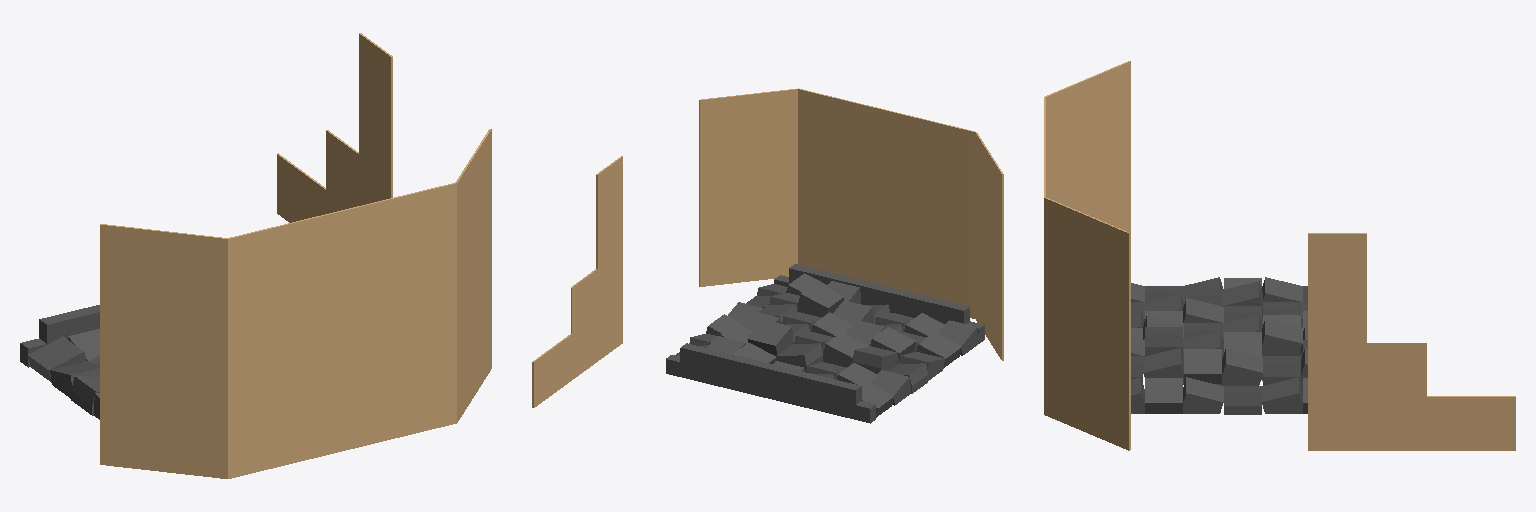
--- What the picture shows (computed from the rendered views, not written in the file) ---
3 views of the same robot in one strip: view 1: azimuth 30°, elevation 25°; view 2: azimuth 150°, elevation 25°; view 3: azimuth 270°, elevation 25° (orthographic).
Robot: drc_terrain — 69 links, 68 joints (68 fixed); root link base_link; default pose: all joints at 0.
Visible links, largest first — view 1: wall, zShapeIndexedFaceSet.62, zShapeIndexedFaceSet.64, zShapeIndexedFaceSet.61, zShapeIndexedFaceSet.29, zShapeIndexedFaceSet.40, zShapeIndexedFaceSet.16; view 2: wall, zShapeIndexedFaceSet.62, zShapeIndexedFaceSet.64, zShapeIndexedFaceSet.66, zShapeIndexedFaceSet.63, zShapeIndexedFaceSet.22, zShapeIndexedFaceSet.50, zShapeIndexedFaceSet.53, zShapeIndexedFaceSet.07, zShapeIndexedFaceSet.34, brickA5, zShapeIndexedFaceSet.29 (+10 smaller); view 3: wall, zShapeIndexedFaceSet.62, zShapeIndexedFaceSet.38, zShapeIndexedFaceSet.22, zShapeIndexedFaceSet.23, zShapeIndexedFaceSet.14, zShapeIndexedFaceSet.28, zShapeIndexedFaceSet.36, zShapeIndexedFaceSet.59, zShapeIndexedFaceSet.01, zShapeIndexedFaceSet.52, zShapeIndexedFaceSet.50 (+7 smaller).
Link boxes in pixels (box(x1,y1,x2,y2)): wall: box(100, 129, 491, 478); zShapeIndexedFaceSet.62: box(277, 33, 392, 222); zShapeIndexedFaceSet.64: box(39, 305, 99, 343); zShapeIndexedFaceSet.61: box(28, 336, 86, 382); zShapeIndexedFaceSet.29: box(50, 361, 99, 398); zShapeIndexedFaceSet.40: box(71, 376, 99, 415); zShapeIndexedFaceSet.16: box(68, 329, 99, 360); wall: box(699, 88, 1003, 360); zShapeIndexedFaceSet.62: box(532, 156, 622, 407); zShapeIndexedFaceSet.64: box(680, 343, 861, 404); zShapeIndexedFaceSet.66: box(666, 355, 875, 423); zShapeIndexedFaceSet.63: box(789, 264, 969, 323); zShapeIndexedFaceSet.22: box(748, 319, 792, 354); zShapeIndexedFaceSet.50: box(798, 282, 844, 316); zShapeIndexedFaceSet.53: box(823, 332, 867, 366); zShapeIndexedFaceSet.07: box(853, 346, 897, 373); zShapeIndexedFaceSet.34: box(776, 343, 822, 372); brickA5: box(916, 332, 961, 367); zShapeIndexedFaceSet.29: box(870, 370, 910, 405); wall: box(1044, 61, 1130, 450); zShapeIndexedFaceSet.62: box(1308, 233, 1515, 450); zShapeIndexedFaceSet.38: box(1145, 378, 1182, 413); zShapeIndexedFaceSet.22: box(1262, 319, 1302, 355); zShapeIndexedFaceSet.23: box(1222, 348, 1262, 384); zShapeIndexedFaceSet.14: box(1262, 377, 1302, 413); zShapeIndexedFaceSet.28: box(1183, 377, 1223, 413); zShapeIndexedFaceSet.36: box(1184, 349, 1221, 383); zShapeIndexedFaceSet.59: box(1224, 386, 1261, 414); zShapeIndexedFaceSet.01: box(1143, 348, 1183, 384); zShapeIndexedFaceSet.52: box(1263, 356, 1300, 385); zShapeIndexedFaceSet.50: box(1145, 327, 1182, 355).
Bounding box of the posed robot: 4.2 × 4.83 × 2.46 m (x, y, z).
Meshes: 68 distinct files referenced, 67 mesh visuals loaded (67 binary STL); not drawn: 1 (reference not matched to a file when rendering).

robot.urdf — drc_terrain:
<?xml version="1.0" ?>
<robot name="drc_terrain">
  <link name="base_link" />

    <link name="ground">
    <visual>
      <geometry>
        <mesh filename="package://mc_env_description/meshes/drc_terrain/ground.stl" />
      </geometry>
      <material name="default">
        <color rgba="1.0 1.0 1.0 1" />
      </material>
    </visual>

  </link>
  <joint name="ground" type="fixed">
    <parent link="base_link" />
    <child link="ground" />
    <origin rpy="0.0 0.0 0.0" xyz="2.0 0.0 0.0" />
  </joint>

  <link name="wall">
    <visual>
      <geometry>
        <mesh filename="package://mc_env_description/meshes/drc_terrain/wall.stl" />
      </geometry>
      <material name="Shape.067">
        <color rgba="0.8705882430076599 0.7215686440467834 0.529411792755127 1" />
      </material>
    </visual>

  </link>
  <joint name="wall" type="fixed">
    <parent link="base_link" />
    <child link="wall" />
    <origin rpy="0.0 -0.0 0.0" xyz="0.0 0.27956652641296387 0.0" />
  </joint>

  <link name="zShapeIndexedFaceSet.66">
    <visual>
      <geometry>
        <mesh filename="package://mc_env_description/meshes/drc_terrain/zShapeIndexedFaceSet.66.stl" />
      </geometry>
      <material name="Shape.066">
        <color rgba="0.4000000059604645 0.4000000059604645 0.4000000059604645 1" />
      </material>
    </visual>

  </link>
  <joint name="zShapeIndexedFaceSet.66" type="fixed">
    <parent link="base_link" />
    <child link="zShapeIndexedFaceSet.66" />
    <origin rpy="0.0 -0.0 0.0" xyz="0.0 0.0 0.0" />
  </joint>

  <link name="zShapeIndexedFaceSet.65">
    <visual>
      <geometry>
        <mesh filename="package://mc_env_description/meshes/drc_terrain/zShapeIndexedFaceSet.65.stl" />
      </geometry>
      <material name="Shape.065">
        <color rgba="0.4000000059604645 0.4000000059604645 0.4000000059604645 1" />
      </material>
    </visual>

  </link>
  <joint name="zShapeIndexedFaceSet.65" type="fixed">
    <parent link="base_link" />
    <child link="zShapeIndexedFaceSet.65" />
    <origin rpy="0.0 -0.0 0.0" xyz="0.0 0.0 0.0" />
  </joint>

  <link name="zShapeIndexedFaceSet.64">
    <visual>
      <geometry>
        <mesh filename="package://mc_env_description/meshes/drc_terrain/zShapeIndexedFaceSet.64.stl" />
      </geometry>
      <material name="Shape.064">
        <color rgba="0.4000000059604645 0.4000000059604645 0.4000000059604645 1" />
      </material>
    </visual>

  </link>
  <joint name="zShapeIndexedFaceSet.64" type="fixed">
    <parent link="base_link" />
    <child link="zShapeIndexedFaceSet.64" />
    <origin rpy="0.0 -0.0 0.0" xyz="0.0 0.0 0.0" />
  </joint>

  <link name="zShapeIndexedFaceSet.63">
    <visual>
      <geometry>
        <mesh filename="package://mc_env_description/meshes/drc_terrain/zShapeIndexedFaceSet.63.stl" />
      </geometry>
      <material name="Shape.063">
        <color rgba="0.4000000059604645 0.4000000059604645 0.4000000059604645 1" />
      </material>
    </visual>

  </link>
  <joint name="zShapeIndexedFaceSet.63" type="fixed">
    <parent link="base_link" />
    <child link="zShapeIndexedFaceSet.63" />
    <origin rpy="0.0 -0.0 0.0" xyz="0.0 0.0 0.0" />
  </joint>

  <link name="zShapeIndexedFaceSet.62">
    <visual>
      <geometry>
        <mesh filename="package://mc_env_description/meshes/drc_terrain/zShapeIndexedFaceSet.62.stl" />
      </geometry>
      <material name="Shape.062">
        <color rgba="0.8705882430076599 0.7215686440467834 0.529411792755127 1" />
      </material>
    </visual>

  </link>
  <joint name="zShapeIndexedFaceSet.62" type="fixed">
    <parent link="base_link" />
    <child link="zShapeIndexedFaceSet.62" />
    <origin rpy="0.0 -0.0 0.0" xyz="0.0 0.0 0.0" />
  </joint>

  <link name="zShapeIndexedFaceSet.61">
    <visual>
      <geometry>
        <mesh filename="package://mc_env_description/meshes/drc_terrain/zShapeIndexedFaceSet.61.stl" />
      </geometry>
      <material name="Shape.061">
        <color rgba="0.4000000059604645 0.4000000059604645 0.4000000059604645 1" />
      </material>
    </visual>

  </link>
  <joint name="zShapeIndexedFaceSet.61" type="fixed">
    <parent link="base_link" />
    <child link="zShapeIndexedFaceSet.61" />
    <origin rpy="0.0 -0.0 0.0" xyz="0.0 0.0 0.0" />
  </joint>

  <link name="zShapeIndexedFaceSet.60">
    <visual>
      <geometry>
        <mesh filename="package://mc_env_description/meshes/drc_terrain/zShapeIndexedFaceSet.60.stl" />
      </geometry>
      <material name="Shape.060">
        <color rgba="0.4000000059604645 0.4000000059604645 0.4000000059604645 1" />
      </material>
    </visual>

  </link>
  <joint name="zShapeIndexedFaceSet.60" type="fixed">
    <parent link="base_link" />
    <child link="zShapeIndexedFaceSet.60" />
    <origin rpy="0.0 -0.0 0.0" xyz="0.0 0.0 0.0" />
  </joint>

  <link name="zShapeIndexedFaceSet.59">
    <visual>
      <geometry>
        <mesh filename="package://mc_env_description/meshes/drc_terrain/zShapeIndexedFaceSet.59.stl" />
      </geometry>
      <material name="Shape.059">
        <color rgba="0.4000000059604645 0.4000000059604645 0.4000000059604645 1" />
      </material>
    </visual>

  </link>
  <joint name="zShapeIndexedFaceSet.59" type="fixed">
    <parent link="base_link" />
    <child link="zShapeIndexedFaceSet.59" />
    <origin rpy="0.0 -0.0 0.0" xyz="0.0 0.0 0.0" />
  </joint>

  <link name="brickA5">
    <visual>
      <geometry>
        <mesh filename="package://mc_env_description/meshes/drc_terrain/brickA5.stl" />
      </geometry>
      <material name="Shape.058">
        <color rgba="0.4000000059604645 0.4000000059604645 0.4000000059604645 1" />
      </material>
    </visual>

  </link>
  <joint name="brickA5" type="fixed">
    <parent link="base_link" />
    <child link="brickA5" />
    <origin rpy="0.0 -0.0 0.0" xyz="0.0 0.0 0.0" />
  </joint>

  <link name="brickB6">
    <visual>
      <geometry>
        <mesh filename="package://mc_env_description/meshes/drc_terrain/brickB6.stl" />
      </geometry>
      <material name="Shape.057">
        <color rgba="0.4000000059604645 0.4000000059604645 0.4000000059604645 1" />
      </material>
    </visual>

  </link>
  <joint name="brickB6" type="fixed">
    <parent link="base_link" />
    <child link="brickB6" />
    <origin rpy="0.0 -0.0 0.0" xyz="0.0 0.0 0.0" />
  </joint>

  <link name="zShapeIndexedFaceSet.56">
    <visual>
      <geometry>
        <mesh filename="package://mc_env_description/meshes/drc_terrain/zShapeIndexedFaceSet.56.stl" />
      </geometry>
      <material name="Shape.056">
        <color rgba="0.4000000059604645 0.4000000059604645 0.4000000059604645 1" />
      </material>
    </visual>

  </link>
  <joint name="zShapeIndexedFaceSet.56" type="fixed">
    <parent link="base_link" />
    <child link="zShapeIndexedFaceSet.56" />
    <origin rpy="0.0 -0.0 0.0" xyz="0.0 0.0 0.0" />
  </joint>

  <link name="zShapeIndexedFaceSet.55">
    <visual>
      <geometry>
        <mesh filename="package://mc_env_description/meshes/drc_terrain/zShapeIndexedFaceSet.55.stl" />
      </geometry>
      <material name="Shape.055">
        <color rgba="0.4000000059604645 0.4000000059604645 0.4000000059604645 1" />
      </material>
    </visual>

  </link>
  <joint name="zShapeIndexedFaceSet.55" type="fixed">
    <parent link="base_link" />
    <child link="zShapeIndexedFaceSet.55" />
    <origin rpy="0.0 -0.0 0.0" xyz="0.0 0.0 0.0" />
  </joint>

  <link name="zShapeIndexedFaceSet.54">
    <visual>
      <geometry>
        <mesh filename="package://mc_env_description/meshes/drc_terrain/zShapeIndexedFaceSet.54.stl" />
      </geometry>
      <material name="Shape.054">
        <color rgba="0.4000000059604645 0.4000000059604645 0.4000000059604645 1" />
      </material>
    </visual>

  </link>
  <joint name="zShapeIndexedFaceSet.54" type="fixed">
    <parent link="base_link" />
    <child link="zShapeIndexedFaceSet.54" />
    <origin rpy="0.0 -0.0 0.0" xyz="0.0 0.0 0.0" />
  </joint>

  <link name="zShapeIndexedFaceSet.53">
    <visual>
      <geometry>
        <mesh filename="package://mc_env_description/meshes/drc_terrain/zShapeIndexedFaceSet.53.stl" />
      </geometry>
      <material name="Shape.053">
        <color rgba="0.4000000059604645 0.4000000059604645 0.4000000059604645 1" />
      </material>
    </visual>

  </link>
  <joint name="zShapeIndexedFaceSet.53" type="fixed">
    <parent link="base_link" />
    <child link="zShapeIndexedFaceSet.53" />
    <origin rpy="0.0 -0.0 0.0" xyz="0.0 0.0 0.0" />
  </joint>

  <link name="zShapeIndexedFaceSet.52">
    <visual>
      <geometry>
        <mesh filename="package://mc_env_description/meshes/drc_terrain/zShapeIndexedFaceSet.52.stl" />
      </geometry>
      <material name="Shape.052">
        <color rgba="0.4000000059604645 0.4000000059604645 0.4000000059604645 1" />
      </material>
    </visual>

  </link>
  <joint name="zShapeIndexedFaceSet.52" type="fixed">
    <parent link="base_link" />
    <child link="zShapeIndexedFaceSet.52" />
    <origin rpy="0.0 -0.0 0.0" xyz="0.0 0.0 0.0" />
  </joint>

  <link name="zShapeIndexedFaceSet.51">
    <visual>
      <geometry>
        <mesh filename="package://mc_env_description/meshes/drc_terrain/zShapeIndexedFaceSet.51.stl" />
      </geometry>
      <material name="Shape.051">
        <color rgba="0.4000000059604645 0.4000000059604645 0.4000000059604645 1" />
      </material>
    </visual>

  </link>
  <joint name="zShapeIndexedFaceSet.51" type="fixed">
    <parent link="base_link" />
    <child link="zShapeIndexedFaceSet.51" />
    <origin rpy="0.0 -0.0 0.0" xyz="0.0 0.0 0.0" />
  </joint>

  <link name="zShapeIndexedFaceSet.50">
    <visual>
      <geometry>
        <mesh filename="package://mc_env_description/meshes/drc_terrain/zShapeIndexedFaceSet.50.stl" />
      </geometry>
      <material name="Shape.050">
        <color rgba="0.4000000059604645 0.4000000059604645 0.4000000059604645 1" />
      </material>
    </visual>

  </link>
  <joint name="zShapeIndexedFaceSet.50" type="fixed">
    <parent link="base_link" />
    <child link="zShapeIndexedFaceSet.50" />
    <origin rpy="0.0 -0.0 0.0" xyz="0.0 0.0 0.0" />
  </joint>

  <link name="zShapeIndexedFaceSet.49">
    <visual>
      <geometry>
        <mesh filename="package://mc_env_description/meshes/drc_terrain/zShapeIndexedFaceSet.49.stl" />
      </geometry>
      <material name="Shape.049">
        <color rgba="0.4000000059604645 0.4000000059604645 0.4000000059604645 1" />
      </material>
    </visual>

  </link>
  <joint name="zShapeIndexedFaceSet.49" type="fixed">
    <parent link="base_link" />
    <child link="zShapeIndexedFaceSet.49" />
    <origin rpy="0.0 -0.0 0.0" xyz="0.0 0.0 0.0" />
  </joint>

  <link name="zShapeIndexedFaceSet.48">
    <visual>
      <geometry>
        <mesh filename="package://mc_env_description/meshes/drc_terrain/zShapeIndexedFaceSet.48.stl" />
      </geometry>
      <material name="Shape.048">
        <color rgba="0.4000000059604645 0.4000000059604645 0.4000000059604645 1" />
      </material>
    </visual>

  </link>
  <joint name="zShapeIndexedFaceSet.48" type="fixed">
    <parent link="base_link" />
    <child link="zShapeIndexedFaceSet.48" />
    <origin rpy="0.0 -0.0 0.0" xyz="0.0 0.0 0.0" />
  </joint>

  <link name="zShapeIndexedFaceSet.47">
    <visual>
      <geometry>
        <mesh filename="package://mc_env_description/meshes/drc_terrain/zShapeIndexedFaceSet.47.stl" />
      </geometry>
      <material name="Shape.047">
        <color rgba="0.4000000059604645 0.4000000059604645 0.4000000059604645 1" />
      </material>
    </visual>

  </link>
  <joint name="zShapeIndexedFaceSet.47" type="fixed">
    <parent link="base_link" />
    <child link="zShapeIndexedFaceSet.47" />
    <origin rpy="0.0 -0.0 0.0" xyz="0.0 0.0 0.0" />
  </joint>

  <link name="zShapeIndexedFaceSet.46">
    <visual>
      <geometry>
        <mesh filename="package://mc_env_description/meshes/drc_terrain/zShapeIndexedFaceSet.46.stl" />
      </geometry>
      <material name="Shape.046">
        <color rgba="0.4000000059604645 0.4000000059604645 0.4000000059604645 1" />
      </material>
    </visual>

  </link>
  <joint name="zShapeIndexedFaceSet.46" type="fixed">
    <parent link="base_link" />
    <child link="zShapeIndexedFaceSet.46" />
    <origin rpy="0.0 -0.0 0.0" xyz="0.0 0.0 0.0" />
  </joint>

  <link name="zShapeIndexedFaceSet.45">
    <visual>
      <geometry>
        <mesh filename="package://mc_env_description/meshes/drc_terrain/zShapeIndexedFaceSet.45.stl" />
      </geometry>
      <material name="Shape.045">
        <color rgba="0.4000000059604645 0.4000000059604645 0.4000000059604645 1" />
      </material>
    </visual>

  </link>
  <joint name="zShapeIndexedFaceSet.45" type="fixed">
    <parent link="base_link" />
    <child link="zShapeIndexedFaceSet.45" />
    <origin rpy="0.0 -0.0 0.0" xyz="0.0 0.0 0.0" />
  </joint>

  <link name="zShapeIndexedFaceSet.44">
    <visual>
      <geometry>
        <mesh filename="package://mc_env_description/meshes/drc_terrain/zShapeIndexedFaceSet.44.stl" />
      </geometry>
      <material name="Shape.044">
        <color rgba="0.4000000059604645 0.4000000059604645 0.4000000059604645 1" />
      </material>
    </visual>

  </link>
  <joint name="zShapeIndexedFaceSet.44" type="fixed">
    <parent link="base_link" />
    <child link="zShapeIndexedFaceSet.44" />
    <origin rpy="0.0 -0.0 0.0" xyz="0.0 0.0 0.0" />
  </joint>

  <link name="zShapeIndexedFaceSet.43">
    <visual>
      <geometry>
        <mesh filename="package://mc_env_description/meshes/drc_terrain/zShapeIndexedFaceSet.43.stl" />
      </geometry>
      <material name="Shape.043">
        <color rgba="0.4000000059604645 0.4000000059604645 0.4000000059604645 1" />
      </material>
    </visual>

  </link>
  <joint name="zShapeIndexedFaceSet.43" type="fixed">
    <parent link="base_link" />
    <child link="zShapeIndexedFaceSet.43" />
    <origin rpy="0.0 -0.0 0.0" xyz="0.0 0.0 0.0" />
  </joint>

  <link name="zShapeIndexedFaceSet.42">
    <visual>
      <geometry>
        <mesh filename="package://mc_env_description/meshes/drc_terrain/zShapeIndexedFaceSet.42.stl" />
      </geometry>
      <material name="Shape.042">
        <color rgba="0.4000000059604645 0.4000000059604645 0.4000000059604645 1" />
      </material>
    </visual>

  </link>
  <joint name="zShapeIndexedFaceSet.42" type="fixed">
    <parent link="base_link" />
    <child link="zShapeIndexedFaceSet.42" />
    <origin rpy="0.0 -0.0 0.0" xyz="0.0 0.0 0.0" />
  </joint>

  <link name="zShapeIndexedFaceSet.41">
    <visual>
      <geometry>
        <mesh filename="package://mc_env_description/meshes/drc_terrain/zShapeIndexedFaceSet.41.stl" />
      </geometry>
      <material name="Shape.041">
        <color rgba="0.4000000059604645 0.4000000059604645 0.4000000059604645 1" />
      </material>
    </visual>

  </link>
  <joint name="zShapeIndexedFaceSet.41" type="fixed">
    <parent link="base_link" />
    <child link="zShapeIndexedFaceSet.41" />
    <origin rpy="0.0 -0.0 0.0" xyz="0.0 0.0 0.0" />
  </joint>

  <link name="zShapeIndexedFaceSet.40">
    <visual>
      <geometry>
        <mesh filename="package://mc_env_description/meshes/drc_terrain/zShapeIndexedFaceSet.40.stl" />
      </geometry>
      <material name="Shape.040">
        <color rgba="0.4000000059604645 0.4000000059604645 0.4000000059604645 1" />
      </material>
    </visual>

  </link>
  <joint name="zShapeIndexedFaceSet.40" type="fixed">
    <parent link="base_link" />
    <child link="zShapeIndexedFaceSet.40" />
    <origin rpy="0.0 -0.0 0.0" xyz="0.0 0.0 0.0" />
  </joint>

  <link name="brickC5">
    <visual>
      <geometry>
        <mesh filename="package://mc_env_description/meshes/drc_terrain/brickC5.stl" />
      </geometry>
      <material name="Shape.039">
        <color rgba="0.4000000059604645 0.4000000059604645 0.4000000059604645 1" />
      </material>
    </visual>

  </link>
  <joint name="brickC5" type="fixed">
    <parent link="base_link" />
    <child link="brickC5" />
    <origin rpy="0.0 -0.0 0.0" xyz="0.0 0.0 0.0" />
  </joint>

  <link name="zShapeIndexedFaceSet.38">
    <visual>
      <geometry>
        <mesh filename="package://mc_env_description/meshes/drc_terrain/zShapeIndexedFaceSet.38.stl" />
      </geometry>
      <material name="Shape.038">
        <color rgba="0.4000000059604645 0.4000000059604645 0.4000000059604645 1" />
      </material>
    </visual>

  </link>
  <joint name="zShapeIndexedFaceSet.38" type="fixed">
    <parent link="base_link" />
    <child link="zShapeIndexedFaceSet.38" />
    <origin rpy="0.0 -0.0 0.0" xyz="0.0 0.0 0.0" />
  </joint>

  <link name="zShapeIndexedFaceSet.37">
    <visual>
      <geometry>
        <mesh filename="package://mc_env_description/meshes/drc_terrain/zShapeIndexedFaceSet.37.stl" />
      </geometry>
      <material name="Shape.037">
        <color rgba="0.4000000059604645 0.4000000059604645 0.4000000059604645 1" />
      </material>
    </visual>

  </link>
  <joint name="zShapeIndexedFaceSet.37" type="fixed">
    <parent link="base_link" />
    <child link="zShapeIndexedFaceSet.37" />
    <origin rpy="0.0 -0.0 0.0" xyz="0.0 0.0 0.0" />
  </joint>

  <link name="zShapeIndexedFaceSet.36">
    <visual>
      <geometry>
        <mesh filename="package://mc_env_description/meshes/drc_terrain/zShapeIndexedFaceSet.36.stl" />
      </geometry>
      <material name="Shape.036">
        <color rgba="0.4000000059604645 0.4000000059604645 0.4000000059604645 1" />
      </material>
    </visual>

  </link>
  <joint name="zShapeIndexedFaceSet.36" type="fixed">
    <parent link="base_link" />
    <child link="zShapeIndexedFaceSet.36" />
    <origin rpy="0.0 -0.0 0.0" xyz="0.0 0.0 0.0" />
  </joint>

  <link name="zShapeIndexedFaceSet.35">
    <visual>
      <geometry>
        <mesh filename="package://mc_env_description/meshes/drc_terrain/zShapeIndexedFaceSet.35.stl" />
      </geometry>
      <material name="Shape.035">
        <color rgba="0.4000000059604645 0.4000000059604645 0.4000000059604645 1" />
      </material>
    </visual>

  </link>
  <joint name="zShapeIndexedFaceSet.35" type="fixed">
    <parent link="base_link" />
    <child link="zShapeIndexedFaceSet.35" />
    <origin rpy="0.0 -0.0 0.0" xyz="0.0 0.0 0.0" />
  </joint>

  <link name="zShapeIndexedFaceSet.34">
    <visual>
      <geometry>
        <mesh filename="package://mc_env_description/meshes/drc_terrain/zShapeIndexedFaceSet.34.stl" />
      </geometry>
      <material name="Shape.034">
        <color rgba="0.4000000059604645 0.4000000059604645 0.4000000059604645 1" />
      </material>
    </visual>

  </link>
  <joint name="zShapeIndexedFaceSet.34" type="fixed">
    <parent link="base_link" />
    <child link="zShapeIndexedFaceSet.34" />
    <origin rpy="0.0 -0.0 0.0" xyz="0.0 0.0 0.0" />
  </joint>

  <link name="zShapeIndexedFaceSet.33">
    <visual>
      <geometry>
        <mesh filename="package://mc_env_description/meshes/drc_terrain/zShapeIndexedFaceSet.33.stl" />
      </geometry>
      <material name="Shape.033">
        <color rgba="0.4000000059604645 0.4000000059604645 0.4000000059604645 1" />
      </material>
    </visual>

  </link>
  <joint name="zShapeIndexedFaceSet.33" type="fixed">
    <parent link="base_link" />
    <child link="zShapeIndexedFaceSet.33" />
    <origin rpy="0.0 -0.0 0.0" xyz="0.0 0.0 0.0" />
  </joint>

  <link name="zShapeIndexedFaceSet.32">
    <visual>
      <geometry>
        <mesh filename="package://mc_env_description/meshes/drc_terrain/zShapeIndexedFaceSet.32.stl" />
      </geometry>
      <material name="Shape.032">
        <color rgba="0.4000000059604645 0.4000000059604645 0.4000000059604645 1" />
      </material>
    </visual>

  </link>
  <joint name="zShapeIndexedFaceSet.32" type="fixed">
    <parent link="base_link" />
    <child link="zShapeIndexedFaceSet.32" />
    <origin rpy="0.0 -0.0 0.0" xyz="0.0 0.0 0.0" />
  </joint>

  <link name="zShapeIndexedFaceSet.31">
    <visual>
      <geometry>
        <mesh filename="package://mc_env_description/meshes/drc_terrain/zShapeIndexedFaceSet.31.stl" />
      </geometry>
      <material name="Shape.031">
        <color rgba="0.4000000059604645 0.4000000059604645 0.4000000059604645 1" />
      </material>
    </visual>

  </link>
  <joint name="zShapeIndexedFaceSet.31" type="fixed">
    <parent link="base_link" />
    <child link="zShapeIndexedFaceSet.31" />
    <origin rpy="0.0 -0.0 0.0" xyz="0.0 0.0 0.0" />
  </joint>

  <link name="zShapeIndexedFaceSet.30">
    <visual>
      <geometry>
        <mesh filename="package://mc_env_description/meshes/drc_terrain/zShapeIndexedFaceSet.30.stl" />
      </geometry>
      <material name="Shape.030">
        <color rgba="0.4000000059604645 0.4000000059604645 0.4000000059604645 1" />
      </material>
    </visual>

  </link>
  <joint name="zShapeIndexedFaceSet.30" type="fixed">
    <parent link="base_link" />
    <child link="zShapeIndexedFaceSet.30" />
    <origin rpy="0.0 -0.0 0.0" xyz="0.0 0.0 0.0" />
  </joint>

  <link name="zShapeIndexedFaceSet.29">
    <visual>
      <geometry>
        <mesh filename="package://mc_env_description/meshes/drc_terrain/zShapeIndexedFaceSet.29.stl" />
      </geometry>
      <material name="Shape.029">
        <color rgba="0.4000000059604645 0.4000000059604645 0.4000000059604645 1" />
      </material>
    </visual>

  </link>
  <joint name="zShapeIndexedFaceSet.29" type="fixed">
    <parent link="base_link" />
    <child link="zShapeIndexedFaceSet.29" />
    <origin rpy="0.0 -0.0 0.0" xyz="0.0 0.0 0.0" />
  </joint>

  <link name="zShapeIndexedFaceSet.28">
    <visual>
      <geometry>
        <mesh filename="package://mc_env_description/meshes/drc_terrain/zShapeIndexedFaceSet.28.stl" />
      </geometry>
      <material name="Shape.028">
        <color rgba="0.4000000059604645 0.4000000059604645 0.4000000059604645 1" />
      </material>
    </visual>

  </link>
  <joint name="zShapeIndexedFaceSet.28" type="fixed">
    <parent link="base_link" />
    <child link="zShapeIndexedFaceSet.28" />
    <origin rpy="0.0 -0.0 0.0" xyz="0.0 0.0 0.0" />
  </joint>

  <link name="brickA6">
    <visual>
      <geometry>
        <mesh filename="package://mc_env_description/meshes/drc_terrain/brickA6.stl" />
      </geometry>
      <material name="Shape.027">
        <color rgba="0.4000000059604645 0.4000000059604645 0.4000000059604645 1" />
      </material>
    </visual>

  </link>
  <joint name="brickA6" type="fixed">
    <parent link="base_link" />
    <child link="brickA6" />
    <origin rpy="0.0 -0.0 0.0" xyz="0.0 0.0 0.0" />
  </joint>

  <link name="zShapeIndexedFaceSet.26">
    <visual>
      <geometry>
        <mesh filename="package://mc_env_description/meshes/drc_terrain/zShapeIndexedFaceSet.26.stl" />
      </geometry>
      <material name="Shape.026">
        <color rgba="0.4000000059604645 0.4000000059604645 0.4000000059604645 1" />
      </material>
    </visual>

  </link>
  <joint name="zShapeIndexedFaceSet.26" type="fixed">
    <parent link="base_link" />
    <child link="zShapeIndexedFaceSet.26" />
    <origin rpy="0.0 -0.0 0.0" xyz="0.0 0.0 0.0" />
  </joint>

  <link name="zShapeIndexedFaceSet.25">
    <visual>
      <geometry>
        <mesh filename="package://mc_env_description/meshes/drc_terrain/zShapeIndexedFaceSet.25.stl" />
      </geometry>
      <material name="Shape.025">
        <color rgba="0.4000000059604645 0.4000000059604645 0.4000000059604645 1" />
      </material>
    </visual>

  </link>
  <joint name="zShapeIndexedFaceSet.25" type="fixed">
    <parent link="base_link" />
    <child link="zShapeIndexedFaceSet.25" />
    <origin rpy="0.0 -0.0 0.0" xyz="0.0 0.0 0.0" />
  </joint>

  <link name="zShapeIndexedFaceSet.24">
    <visual>
      <geometry>
        <mesh filename="package://mc_env_description/meshes/drc_terrain/zShapeIndexedFaceSet.24.stl" />
      </geometry>
      <material name="Shape.024">
        <color rgba="0.4000000059604645 0.4000000059604645 0.4000000059604645 1" />
      </material>
    </visual>

  </link>
  <joint name="zShapeIndexedFaceSet.24" type="fixed">
    <parent link="base_link" />
    <child link="zShapeIndexedFaceSet.24" />
    <origin rpy="0.0 -0.0 0.0" xyz="0.0 0.0 0.0" />
  </joint>

  <link name="zShapeIndexedFaceSet.23">
    <visual>
      <geometry>
        <mesh filename="package://mc_env_description/meshes/drc_terrain/zShapeIndexedFaceSet.23.stl" />
      </geometry>
      <material name="Shape.023">
        <color rgba="0.4000000059604645 0.4000000059604645 0.4000000059604645 1" />
      </material>
    </visual>

  </link>
  <joint name="zShapeIndexedFaceSet.23" type="fixed">
    <parent link="base_link" />
    <child link="zShapeIndexedFaceSet.23" />
    <origin rpy="0.0 -0.0 0.0" xyz="0.0 0.0 0.0" />
  </joint>

  <link name="zShapeIndexedFaceSet.22">
    <visual>
      <geometry>
        <mesh filename="package://mc_env_description/meshes/drc_terrain/zShapeIndexedFaceSet.22.stl" />
      </geometry>
      <material name="Shape.022">
        <color rgba="0.4000000059604645 0.4000000059604645 0.4000000059604645 1" />
      </material>
    </visual>

  </link>
  <joint name="zShapeIndexedFaceSet.22" type="fixed">
    <parent link="base_link" />
    <child link="zShapeIndexedFaceSet.22" />
    <origin rpy="0.0 -0.0 0.0" xyz="0.0 0.0 0.0" />
  </joint>

  <link name="zShapeIndexedFaceSet.21">
    <visual>
      <geometry>
        <mesh filename="package://mc_env_description/meshes/drc_terrain/zShapeIndexedFaceSet.21.stl" />
      </geometry>
      <material name="Shape.021">
        <color rgba="0.4000000059604645 0.4000000059604645 0.4000000059604645 1" />
      </material>
    </visual>

  </link>
  <joint name="zShapeIndexedFaceSet.21" type="fixed">
    <parent link="base_link" />
    <child link="zShapeIndexedFaceSet.21" />
    <origin rpy="0.0 -0.0 0.0" xyz="0.0 0.0 0.0" />
  </joint>

  <link name="zShapeIndexedFaceSet.20">
    <visual>
      <geometry>
        <mesh filename="package://mc_env_description/meshes/drc_terrain/zShapeIndexedFaceSet.20.stl" />
      </geometry>
      <material name="Shape.020">
        <color rgba="0.4000000059604645 0.4000000059604645 0.4000000059604645 1" />
      </material>
    </visual>

  </link>
  <joint name="zShapeIndexedFaceSet.20" type="fixed">
    <parent link="base_link" />
    <child link="zShapeIndexedFaceSet.20" />
    <origin rpy="0.0 -0.0 0.0" xyz="0.0 0.0 0.0" />
  </joint>

  <link name="zShapeIndexedFaceSet.19">
    <visual>
      <geometry>
        <mesh filename="package://mc_env_description/meshes/drc_terrain/zShapeIndexedFaceSet.19.stl" />
      </geometry>
      <material name="Shape.019">
        <color rgba="0.4000000059604645 0.4000000059604645 0.4000000059604645 1" />
      </material>
    </visual>

  </link>
  <joint name="zShapeIndexedFaceSet.19" type="fixed">
    <parent link="base_link" />
    <child link="zShapeIndexedFaceSet.19" />
    <origin rpy="0.0 -0.0 0.0" xyz="0.0 0.0 0.0" />
  </joint>

  <link name="zShapeIndexedFaceSet.18">
    <visual>
      <geometry>
        <mesh filename="package://mc_env_description/meshes/drc_terrain/zShapeIndexedFaceSet.18.stl" />
      </geometry>
      <material name="Shape.018">
        <color rgba="0.4000000059604645 0.4000000059604645 0.4000000059604645 1" />
      </material>
    </visual>

  </link>
  <joint name="zShapeIndexedFaceSet.18" type="fixed">
    <parent link="base_link" />
    <child link="zShapeIndexedFaceSet.18" />
    <origin rpy="0.0 -0.0 0.0" xyz="0.0 0.0 0.0" />
  </joint>

  <link name="zShapeIndexedFaceSet.17">
    <visual>
      <geometry>
        <mesh filename="package://mc_env_description/meshes/drc_terrain/zShapeIndexedFaceSet.17.stl" />
      </geometry>
      <material name="Shape.017">
        <color rgba="0.4000000059604645 0.4000000059604645 0.4000000059604645 1" />
      </material>
    </visual>

  </link>
  <joint name="zShapeIndexedFaceSet.17" type="fixed">
    <parent link="base_link" />
    <child link="zShapeIndexedFaceSet.17" />
    <origin rpy="0.0 -0.0 0.0" xyz="0.0 0.0 0.0" />
  </joint>

  <link name="zShapeIndexedFaceSet.16">
    <visual>
      <geometry>
        <mesh filename="package://mc_env_description/meshes/drc_terrain/zShapeIndexedFaceSet.16.stl" />
      </geometry>
      <material name="Shape.016">
        <color rgba="0.4000000059604645 0.4000000059604645 0.4000000059604645 1" />
      </material>
    </visual>

  </link>
  <joint name="zShapeIndexedFaceSet.16" type="fixed">
    <parent link="base_link" />
    <child link="zShapeIndexedFaceSet.16" />
    <origin rpy="0.0 -0.0 0.0" xyz="0.0 0.0 0.0" />
  </joint>

  <link name="zShapeIndexedFaceSet.15">
    <visual>
      <geometry>
        <mesh filename="package://mc_env_description/meshes/drc_terrain/zShapeIndexedFaceSet.15.stl" />
      </geometry>
      <material name="Shape.015">
        <color rgba="0.4000000059604645 0.4000000059604645 0.4000000059604645 1" />
      </material>
    </visual>

  </link>
  <joint name="zShapeIndexedFaceSet.15" type="fixed">
    <parent link="base_link" />
    <child link="zShapeIndexedFaceSet.15" />
    <origin rpy="0.0 -0.0 0.0" xyz="0.0 0.0 0.0" />
  </joint>

  <link name="zShapeIndexedFaceSet.14">
    <visual>
      <geometry>
        <mesh filename="package://mc_env_description/meshes/drc_terrain/zShapeIndexedFaceSet.14.stl" />
      </geometry>
      <material name="Shape.014">
        <color rgba="0.4000000059604645 0.4000000059604645 0.4000000059604645 1" />
      </material>
    </visual>

  </link>
  <joint name="zShapeIndexedFaceSet.14" type="fixed">
    <parent link="base_link" />
    <child link="zShapeIndexedFaceSet.14" />
    <origin rpy="0.0 -0.0 0.0" xyz="0.0 0.0 0.0" />
  </joint>

  <link name="zShapeIndexedFaceSet.13">
    <visual>
      <geometry>
        <mesh filename="package://mc_env_description/meshes/drc_terrain/zShapeIndexedFaceSet.13.stl" />
      </geometry>
      <material name="Shape.013">
        <color rgba="0.4000000059604645 0.4000000059604645 0.4000000059604645 1" />
      </material>
    </visual>

  </link>
  <joint name="zShapeIndexedFaceSet.13" type="fixed">
    <parent link="base_link" />
    <child link="zShapeIndexedFaceSet.13" />
    <origin rpy="0.0 -0.0 0.0" xyz="0.0 0.0 0.0" />
  </joint>

  <link name="brickB5">
    <visual>
      <geometry>
        <mesh filename="package://mc_env_description/meshes/drc_terrain/brickB5.stl" />
      </geometry>
      <material name="Shape.012">
        <color rgba="0.4000000059604645 0.4000000059604645 0.4000000059604645 1" />
      </material>
    </visual>

  </link>
  <joint name="brickB5" type="fixed">
    <parent link="base_link" />
    <child link="brickB5" />
    <origin rpy="0.0 -0.0 0.0" xyz="0.0 0.0 0.0" />
  </joint>

  <link name="brickC6">
    <visual>
      <geometry>
        <mesh filename="package://mc_env_description/meshes/drc_terrain/brickC6.stl" />
      </geometry>
      <material name="Shape.011">
        <color rgba="0.4000000059604645 0.4000000059604645 0.4000000059604645 1" />
      </material>
    </visual>

  </link>
  <joint name="brickC6" type="fixed">
    <parent link="base_link" />
    <child link="brickC6" />
    <origin rpy="0.0 -0.0 0.0" xyz="0.0 0.0 0.0" />
  </joint>

  <link name="zShapeIndexedFaceSet.10">
    <visual>
      <geometry>
        <mesh filename="package://mc_env_description/meshes/drc_terrain/zShapeIndexedFaceSet.10.stl" />
      </geometry>
      <material name="Shape.010">
        <color rgba="0.4000000059604645 0.4000000059604645 0.4000000059604645 1" />
      </material>
    </visual>

  </link>
  <joint name="zShapeIndexedFaceSet.10" type="fixed">
    <parent link="base_link" />
    <child link="zShapeIndexedFaceSet.10" />
    <origin rpy="0.0 -0.0 0.0" xyz="0.0 0.0 0.0" />
  </joint>

  <link name="zShapeIndexedFaceSet.09">
    <visual>
      <geometry>
        <mesh filename="package://mc_env_description/meshes/drc_terrain/zShapeIndexedFaceSet.09.stl" />
      </geometry>
      <material name="Shape.009">
        <color rgba="0.4000000059604645 0.4000000059604645 0.4000000059604645 1" />
      </material>
    </visual>

  </link>
  <joint name="zShapeIndexedFaceSet.09" type="fixed">
    <parent link="base_link" />
    <child link="zShapeIndexedFaceSet.09" />
    <origin rpy="0.0 -0.0 0.0" xyz="0.0 0.0 0.0" />
  </joint>

  <link name="zShapeIndexedFaceSet.08">
    <visual>
      <geometry>
        <mesh filename="package://mc_env_description/meshes/drc_terrain/zShapeIndexedFaceSet.08.stl" />
      </geometry>
      <material name="Shape.008">
        <color rgba="0.4000000059604645 0.4000000059604645 0.4000000059604645 1" />
      </material>
    </visual>

  </link>
  <joint name="zShapeIndexedFaceSet.08" type="fixed">
    <parent link="base_link" />
    <child link="zShapeIndexedFaceSet.08" />
    <origin rpy="0.0 -0.0 0.0" xyz="0.0 0.0 0.0" />
  </joint>

  <link name="zShapeIndexedFaceSet.07">
    <visual>
      <geometry>
        <mesh filename="package://mc_env_description/meshes/drc_terrain/zShapeIndexedFaceSet.07.stl" />
      </geometry>
      <material name="Shape.007">
        <color rgba="0.4000000059604645 0.4000000059604645 0.4000000059604645 1" />
      </material>
    </visual>

  </link>
  <joint name="zShapeIndexedFaceSet.07" type="fixed">
    <parent link="base_link" />
    <child link="zShapeIndexedFaceSet.07" />
    <origin rpy="0.0 -0.0 0.0" xyz="0.0 0.0 0.0" />
  </joint>

  <link name="zShapeIndexedFaceSet.06">
    <visual>
      <geometry>
        <mesh filename="package://mc_env_description/meshes/drc_terrain/zShapeIndexedFaceSet.06.stl" />
      </geometry>
      <material name="Shape.006">
        <color rgba="0.4000000059604645 0.4000000059604645 0.4000000059604645 1" />
      </material>
    </visual>

  </link>
  <joint name="zShapeIndexedFaceSet.06" type="fixed">
    <parent link="base_link" />
    <child link="zShapeIndexedFaceSet.06" />
    <origin rpy="0.0 -0.0 0.0" xyz="0.0 0.0 0.0" />
  </joint>

  <link name="zShapeIndexedFaceSet.05">
    <visual>
      <geometry>
        <mesh filename="package://mc_env_description/meshes/drc_terrain/zShapeIndexedFaceSet.05.stl" />
      </geometry>
      <material name="Shape.005">
        <color rgba="0.4000000059604645 0.4000000059604645 0.4000000059604645 1" />
      </material>
    </visual>

  </link>
  <joint name="zShapeIndexedFaceSet.05" type="fixed">
    <parent link="base_link" />
    <child link="zShapeIndexedFaceSet.05" />
    <origin rpy="0.0 -0.0 0.0" xyz="0.0 0.0 0.0" />
  </joint>

  <link name="zShapeIndexedFaceSet.04">
    <visual>
      <geometry>
        <mesh filename="package://mc_env_description/meshes/drc_terrain/zShapeIndexedFaceSet.04.stl" />
      </geometry>
      <material name="Shape.004">
        <color rgba="0.4000000059604645 0.4000000059604645 0.4000000059604645 1" />
      </material>
    </visual>

  </link>
  <joint name="zShapeIndexedFaceSet.04" type="fixed">
    <parent link="base_link" />
    <child link="zShapeIndexedFaceSet.04" />
    <origin rpy="0.0 -0.0 0.0" xyz="0.0 0.0 0.0" />
  </joint>

  <link name="zShapeIndexedFaceSet.03">
    <visual>
      <geometry>
        <mesh filename="package://mc_env_description/meshes/drc_terrain/zShapeIndexedFaceSet.03.stl" />
      </geometry>
      <material name="Shape.003">
        <color rgba="0.4000000059604645 0.4000000059604645 0.4000000059604645 1" />
      </material>
    </visual>

  </link>
  <joint name="zShapeIndexedFaceSet.03" type="fixed">
    <parent link="base_link" />
    <child link="zShapeIndexedFaceSet.03" />
    <origin rpy="0.0 -0.0 0.0" xyz="0.0 0.0 0.0" />
  </joint>

  <link name="zShapeIndexedFaceSet.02">
    <visual>
      <geometry>
        <mesh filename="package://mc_env_description/meshes/drc_terrain/zShapeIndexedFaceSet.02.stl" />
      </geometry>
      <material name="Shape.002">
        <color rgba="0.4000000059604645 0.4000000059604645 0.4000000059604645 1" />
      </material>
    </visual>

  </link>
  <joint name="zShapeIndexedFaceSet.02" type="fixed">
    <parent link="base_link" />
    <child link="zShapeIndexedFaceSet.02" />
    <origin rpy="0.0 -0.0 0.0" xyz="0.0 0.0 0.0" />
  </joint>

  <link name="zShapeIndexedFaceSet.01">
    <visual>
      <geometry>
        <mesh filename="package://mc_env_description/meshes/drc_terrain/zShapeIndexedFaceSet.01.stl" />
      </geometry>
      <material name="Shape.001">
        <color rgba="0.4000000059604645 0.4000000059604645 0.4000000059604645 1" />
      </material>
    </visual>

  </link>
  <joint name="zShapeIndexedFaceSet.01" type="fixed">
    <parent link="base_link" />
    <child link="zShapeIndexedFaceSet.01" />
    <origin rpy="0.0 -0.0 0.0" xyz="0.0 0.0 0.0" />
  </joint>

</robot>
